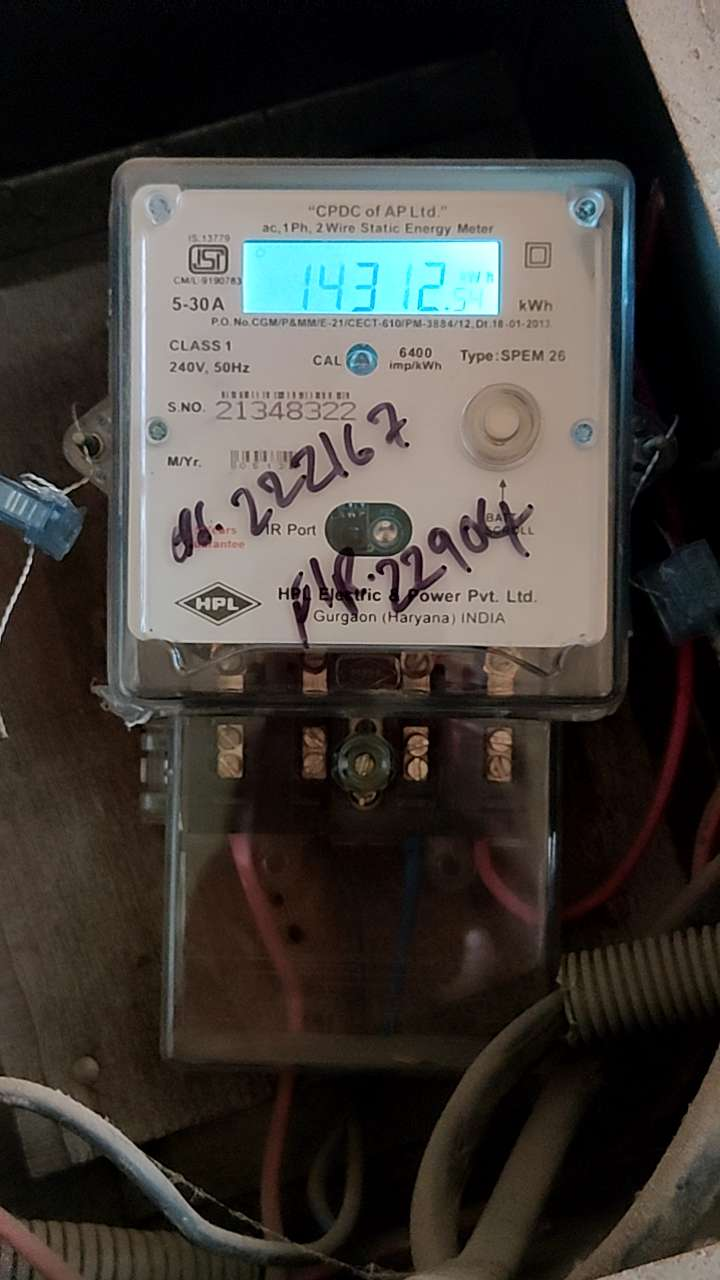meter_serial_number: (210, 395, 364, 426)
